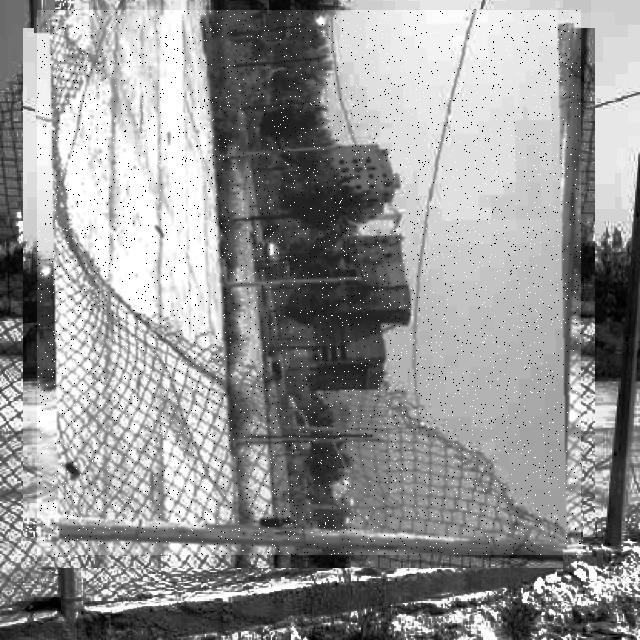anomaly-fence: (37, 10, 581, 555)
